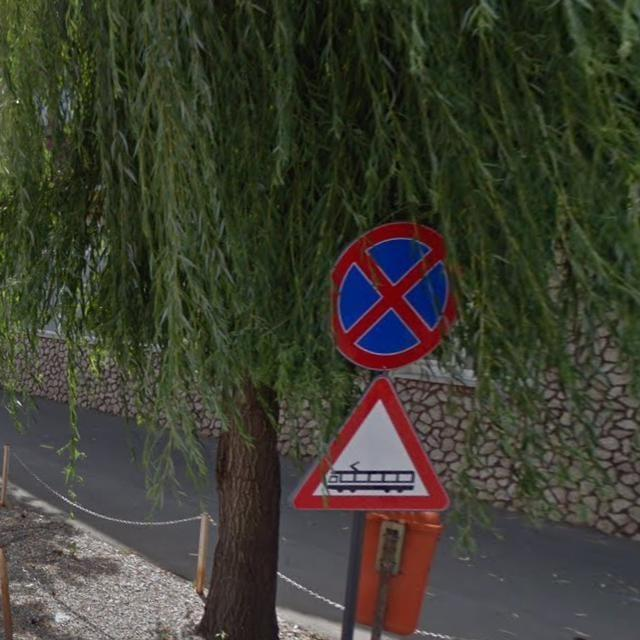forb_waiting: (324, 220, 462, 371)
